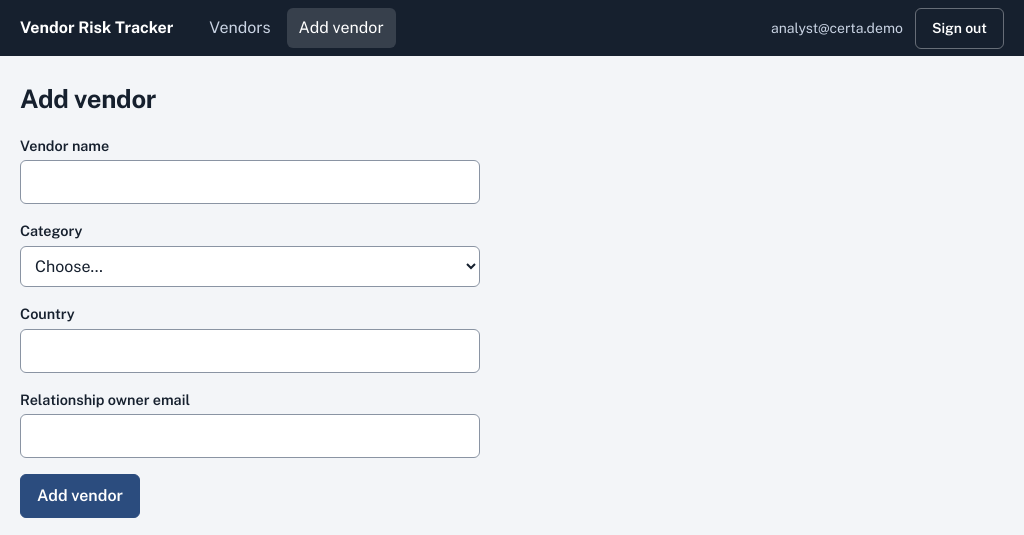
it: add vendor form › creates a vendor and lands on its page
In the field labelled "Vendor name": {"x": 250, "y": 182} [20,160,480,204], type "Helio Analytics"
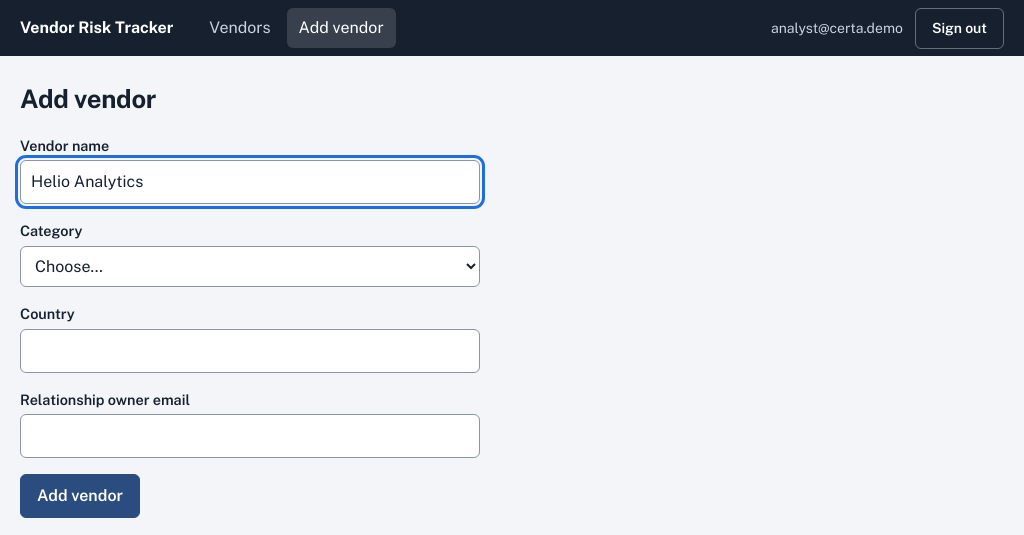
Select "Security" in the dropdown labelled "Category": {"x": 250, "y": 266} [20,246,480,287]
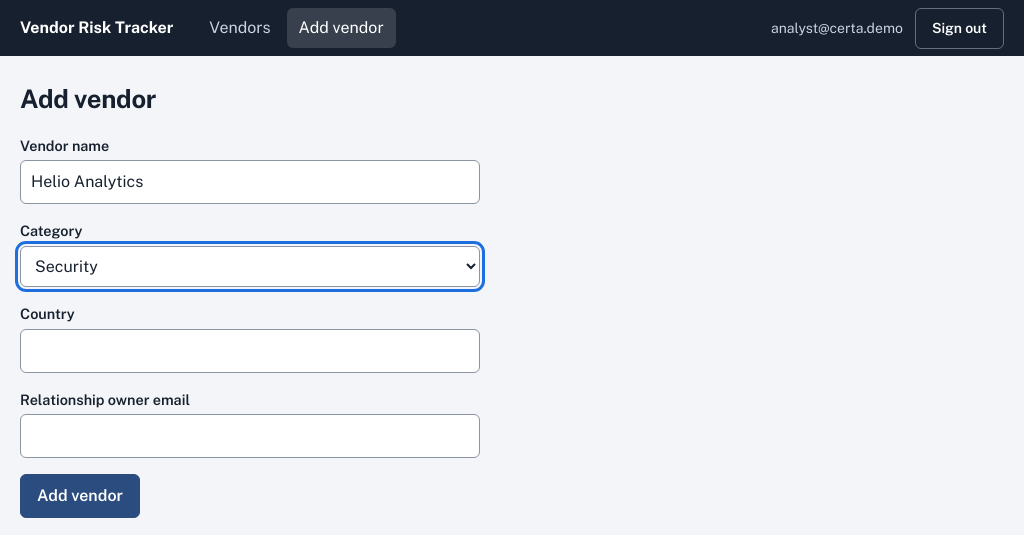
In the field labelled "Country": {"x": 250, "y": 350} [20,328,480,372], type "India"
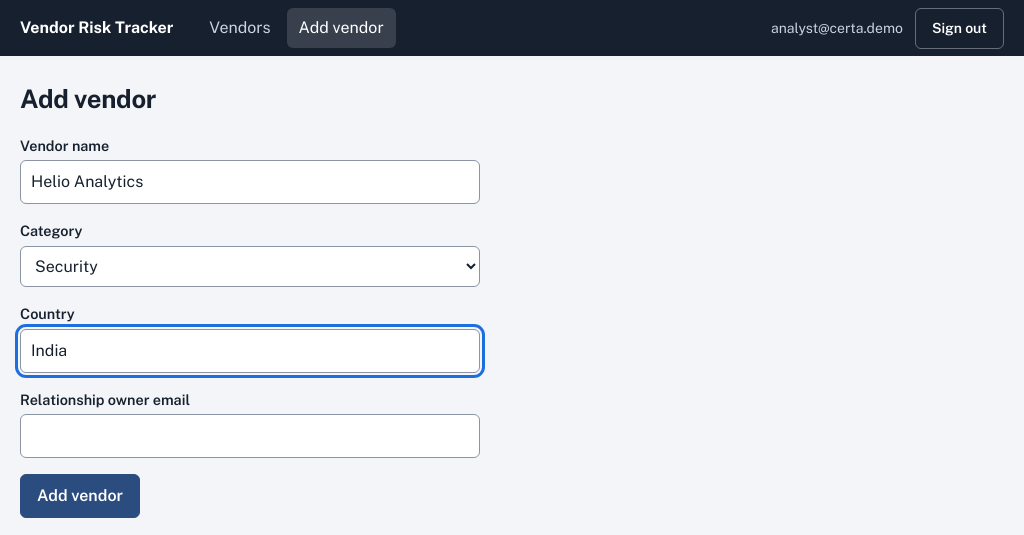
In the field labelled "Relationship owner email": {"x": 250, "y": 436} [20,414,480,458], type "me@acme.test"
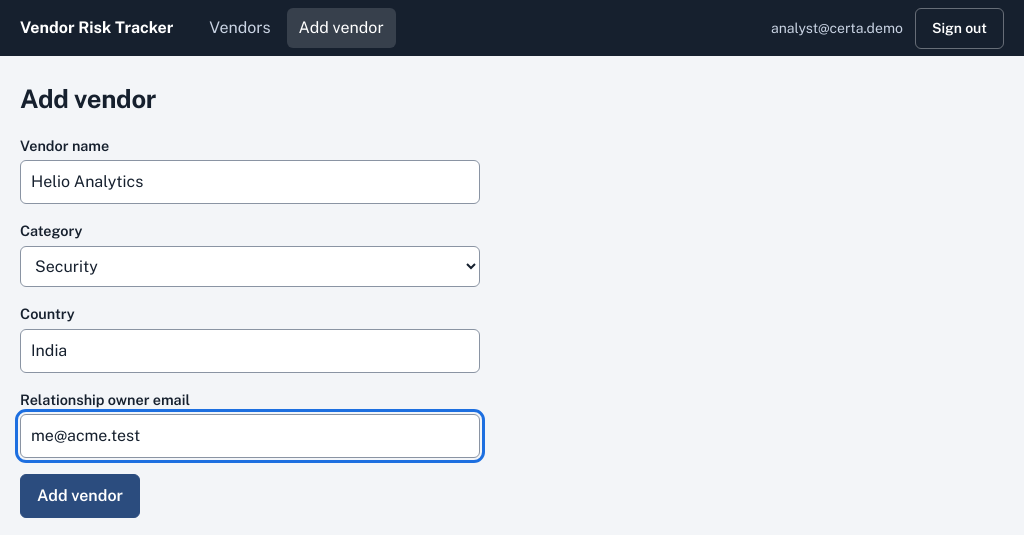
Click the button "Add vendor": {"x": 80, "y": 496} [20,474,140,518]
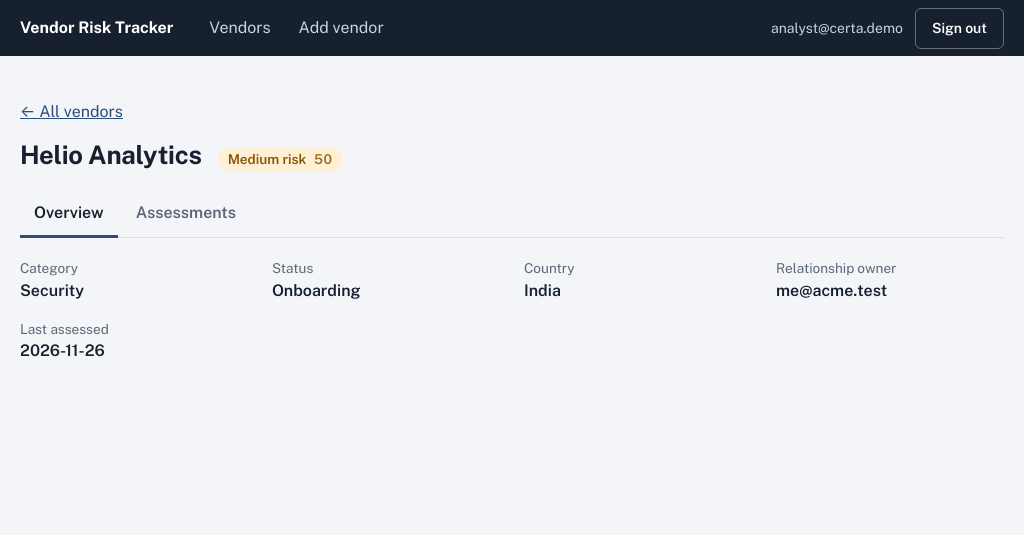
Check: the heading "Helio Analytics" is shown, box [20,140,202,171]
